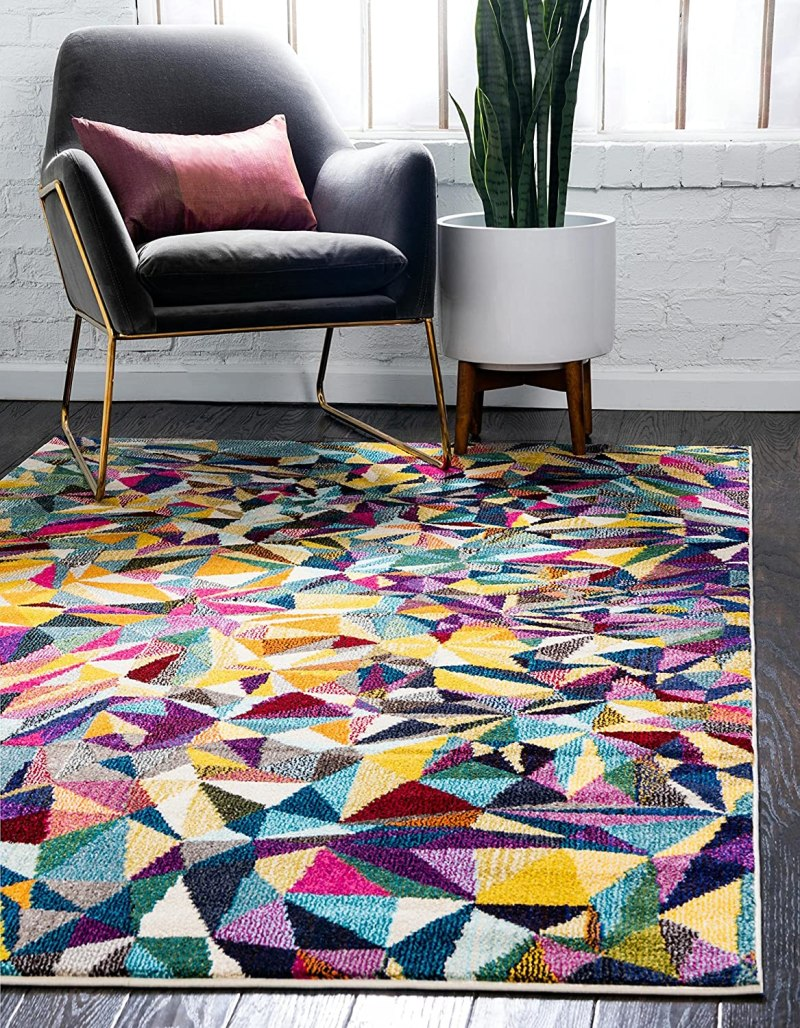hitam: (40, 26, 438, 319)
putih: (436, 215, 613, 364)
